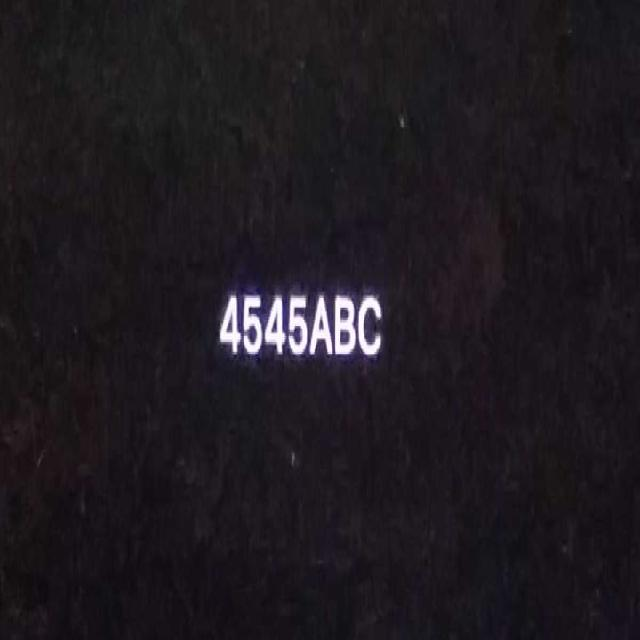license_plate: (210, 272, 388, 382)
